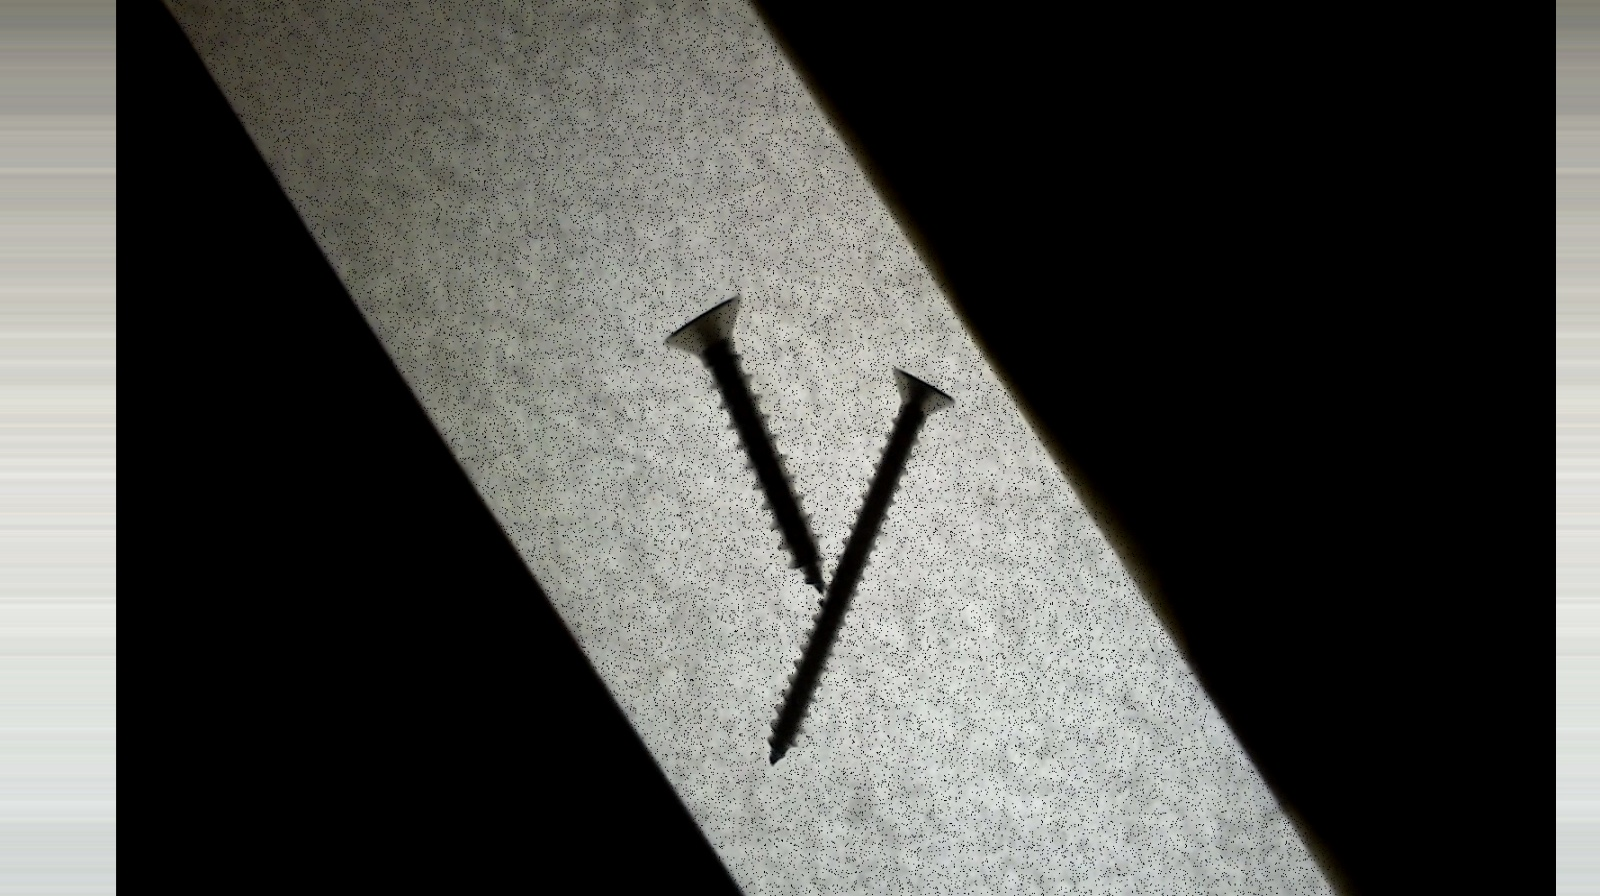S001: (660, 290, 835, 593)
S002: (757, 359, 956, 768)
